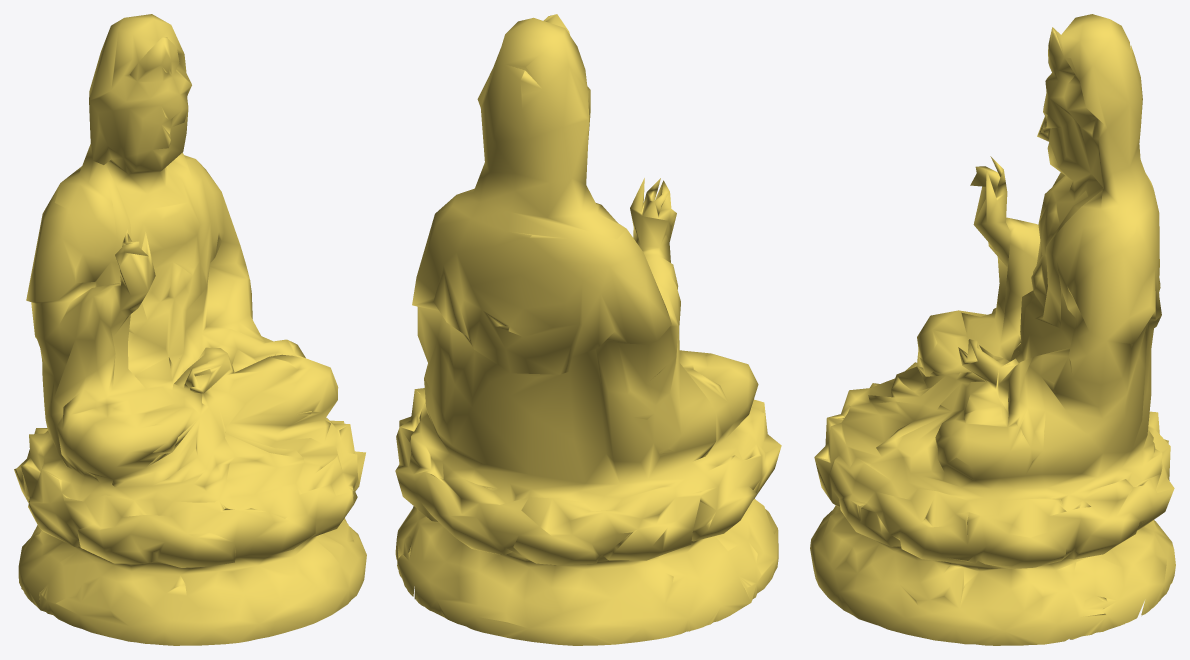
File: far.glb
3 views of the same model, side by side, from view 1: azimuth 30°, elevation 25°; view 2: azimuth 150°, elevation 25°; view 3: azimuth 270°, elevation 25° (orthographic). The views are drawn at different scales.
Visible parts, largest first — view 1: statue-09; view 2: statue-09; view 3: statue-09.
Part boxes in pixels (x1,y1,x2,y2): statue-09: [14, 14, 366, 645]; statue-09: [395, 14, 781, 645]; statue-09: [810, 14, 1175, 645].
Size of the model in its own units: 0.6061 by 1 by 0.6011.
